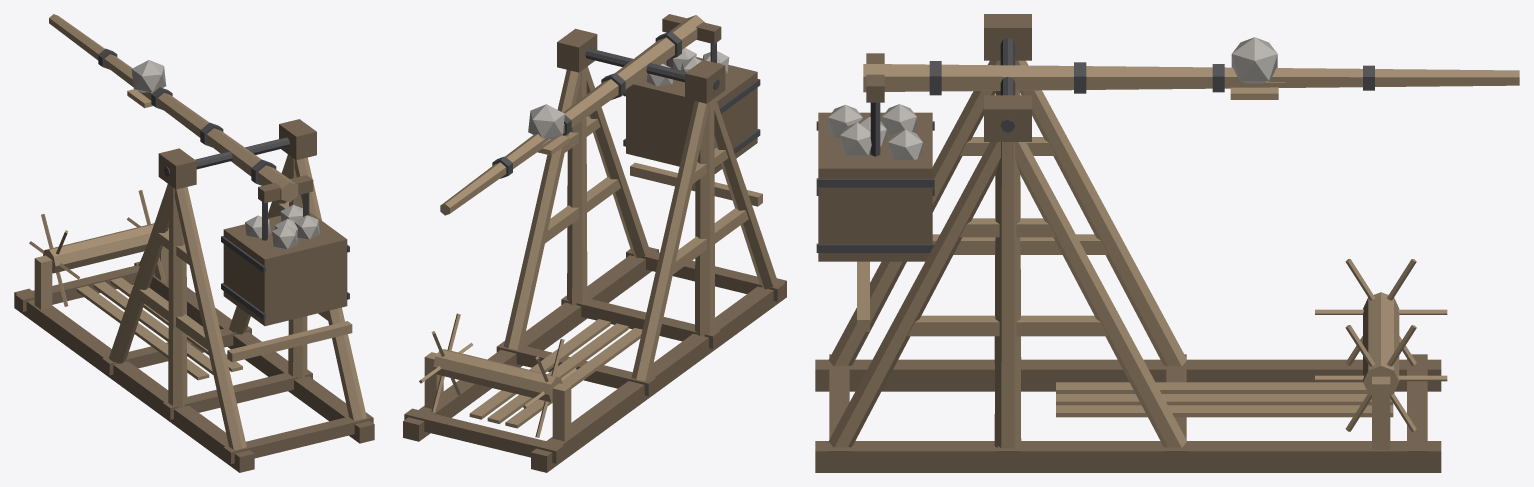
Rendered from trebuchet.glb.
The picture shows the model from 3 angles, left to right: view 1: azimuth 30°, elevation 25°; view 2: azimuth 150°, elevation 25°; view 3: azimuth 270°, elevation 25°; orthographic projection. The views are drawn at different scales.
Parts seen in each view (by area): view 1: Frame, CounterweightBox, ArmBeam, Winch, Stone; view 2: Frame, CounterweightBox, ArmBeam, Winch, Stone; view 3: Frame, CounterweightBox, ArmBeam, Winch, Stone.
Boxes of the visible parts, bbox=[...] form: Frame: bbox=[14, 119, 374, 472]; CounterweightBox: bbox=[221, 192, 349, 326]; ArmBeam: bbox=[49, 14, 313, 203]; Winch: bbox=[29, 190, 168, 306]; Stone: bbox=[131, 60, 166, 92]; Frame: bbox=[403, 28, 786, 472]; CounterweightBox: bbox=[623, 42, 760, 173]; ArmBeam: bbox=[440, 14, 721, 215]; Winch: bbox=[419, 313, 577, 437]; Stone: bbox=[528, 104, 564, 138]; Frame: bbox=[815, 14, 1441, 472]; CounterweightBox: bbox=[816, 102, 934, 261]; ArmBeam: bbox=[863, 38, 1519, 132]; Winch: bbox=[1315, 259, 1447, 431]; Stone: bbox=[1231, 37, 1277, 83].
Bounding box in the file's own units: 3.8 × 7.15 × 11.7.
